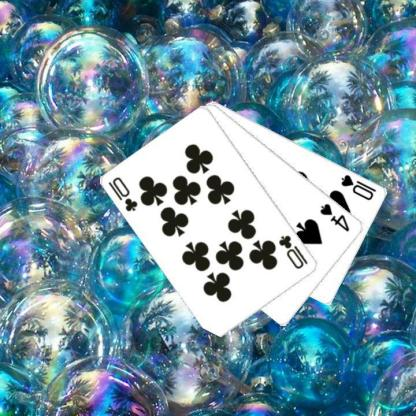10C: (106, 174, 140, 213), (276, 233, 310, 270)
10S: (338, 172, 378, 202)
4S: (318, 201, 351, 233)
